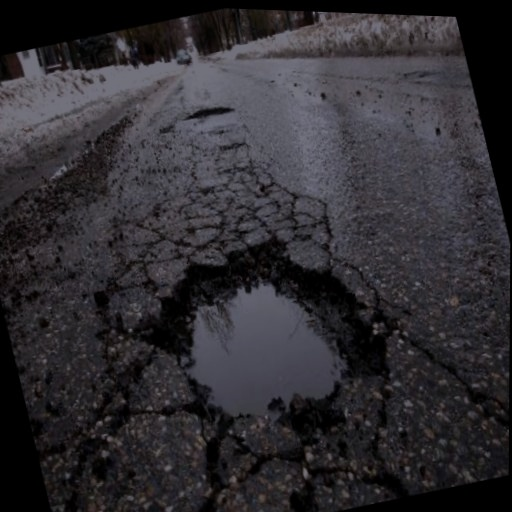pothole: (122, 203, 415, 481), (184, 97, 233, 125)
